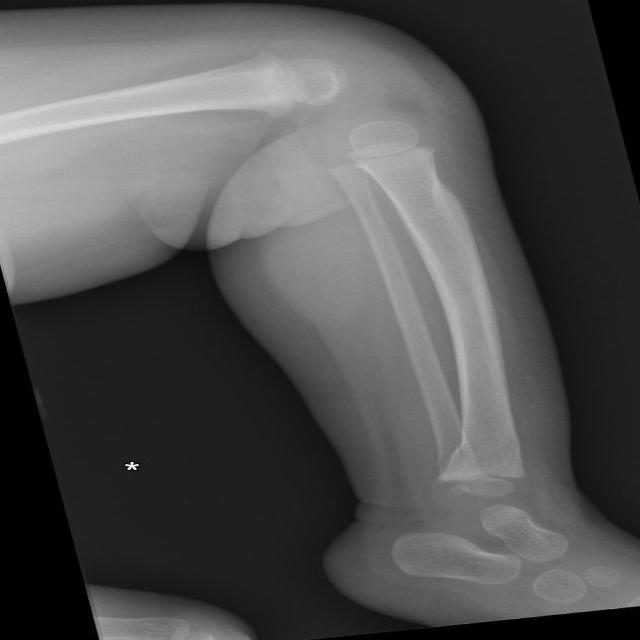fracture: (455, 444, 475, 461)
